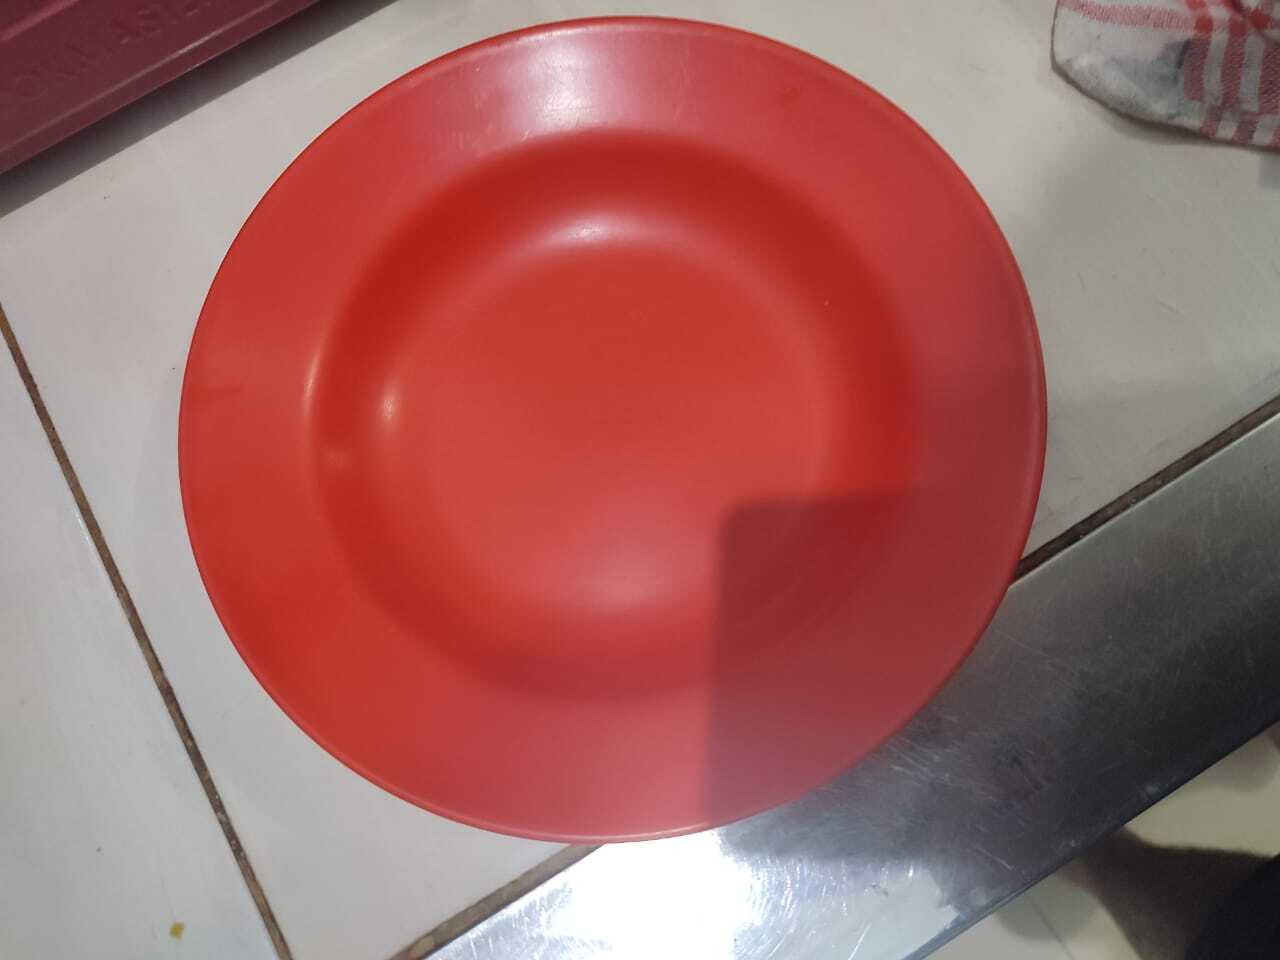piring: (180, 12, 1050, 839)
